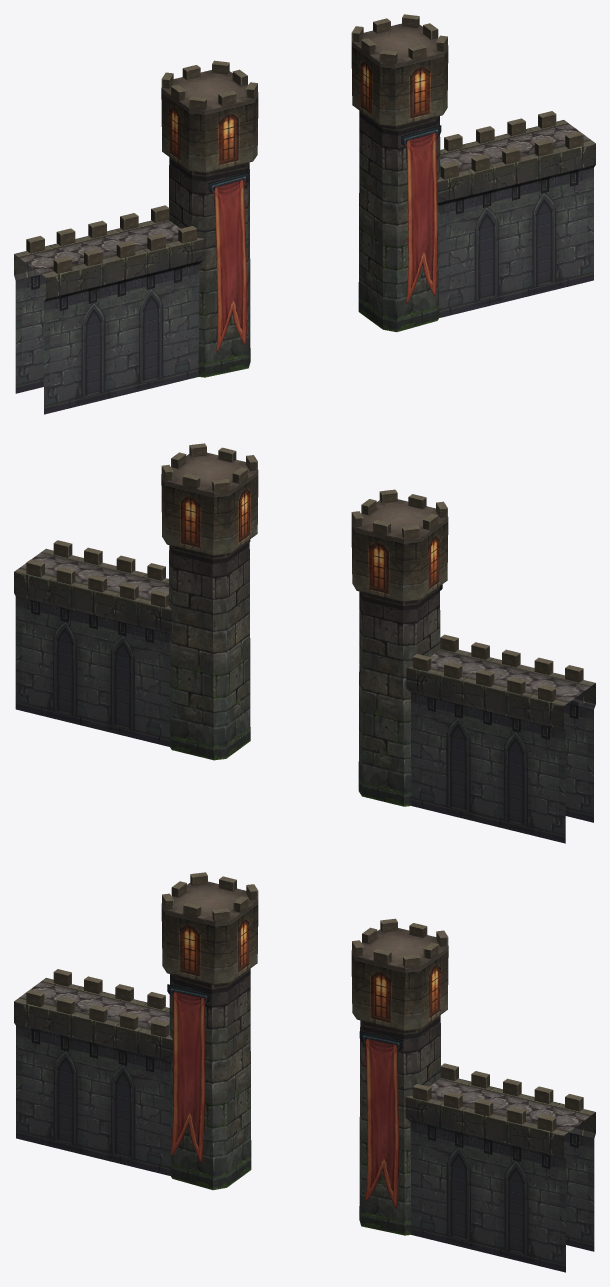
The model's file is Gate_Level03.FBX.
3 renders of one model, top to bottom at view 1: azimuth 30°, elevation 25°; view 2: azimuth 150°, elevation 25°; view 3: azimuth 330°, elevation 25°, orthographic.
Visible parts, largest first — view 1: Gate_Level03, Gate_Level03_B, Gate_Level03_A; view 2: Gate_Level03; view 3: Gate_Level03, Gate_Level03_B, Gate_Level03_A.
Boxes of the visible parts, box(x1,y1,x2,y2) form: Gate_Level03: box(14, 14, 595, 414); Gate_Level03_B: box(208, 172, 248, 351); Gate_Level03_A: box(401, 125, 441, 303); Gate_Level03: box(14, 443, 595, 843); Gate_Level03: box(14, 872, 595, 1272); Gate_Level03_B: box(167, 984, 210, 1163); Gate_Level03_A: box(359, 1031, 402, 1208).
Bounding box in the file's own units: 858 × 416 × 117.
